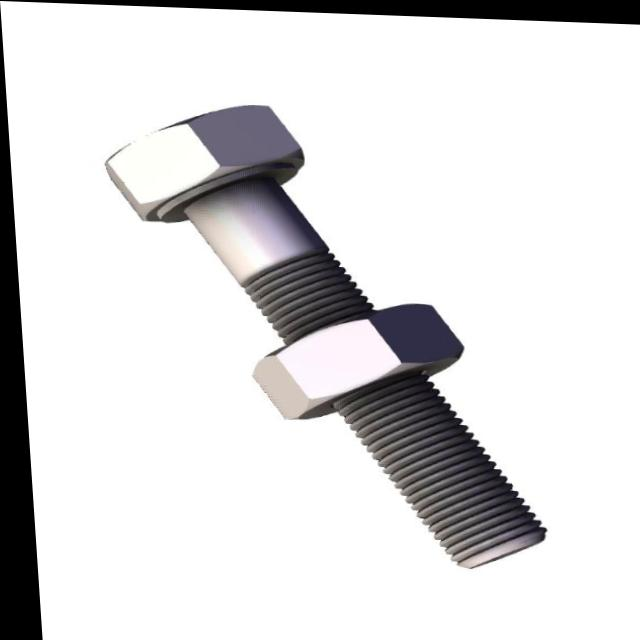Regular bolt: (94, 98, 307, 230)
